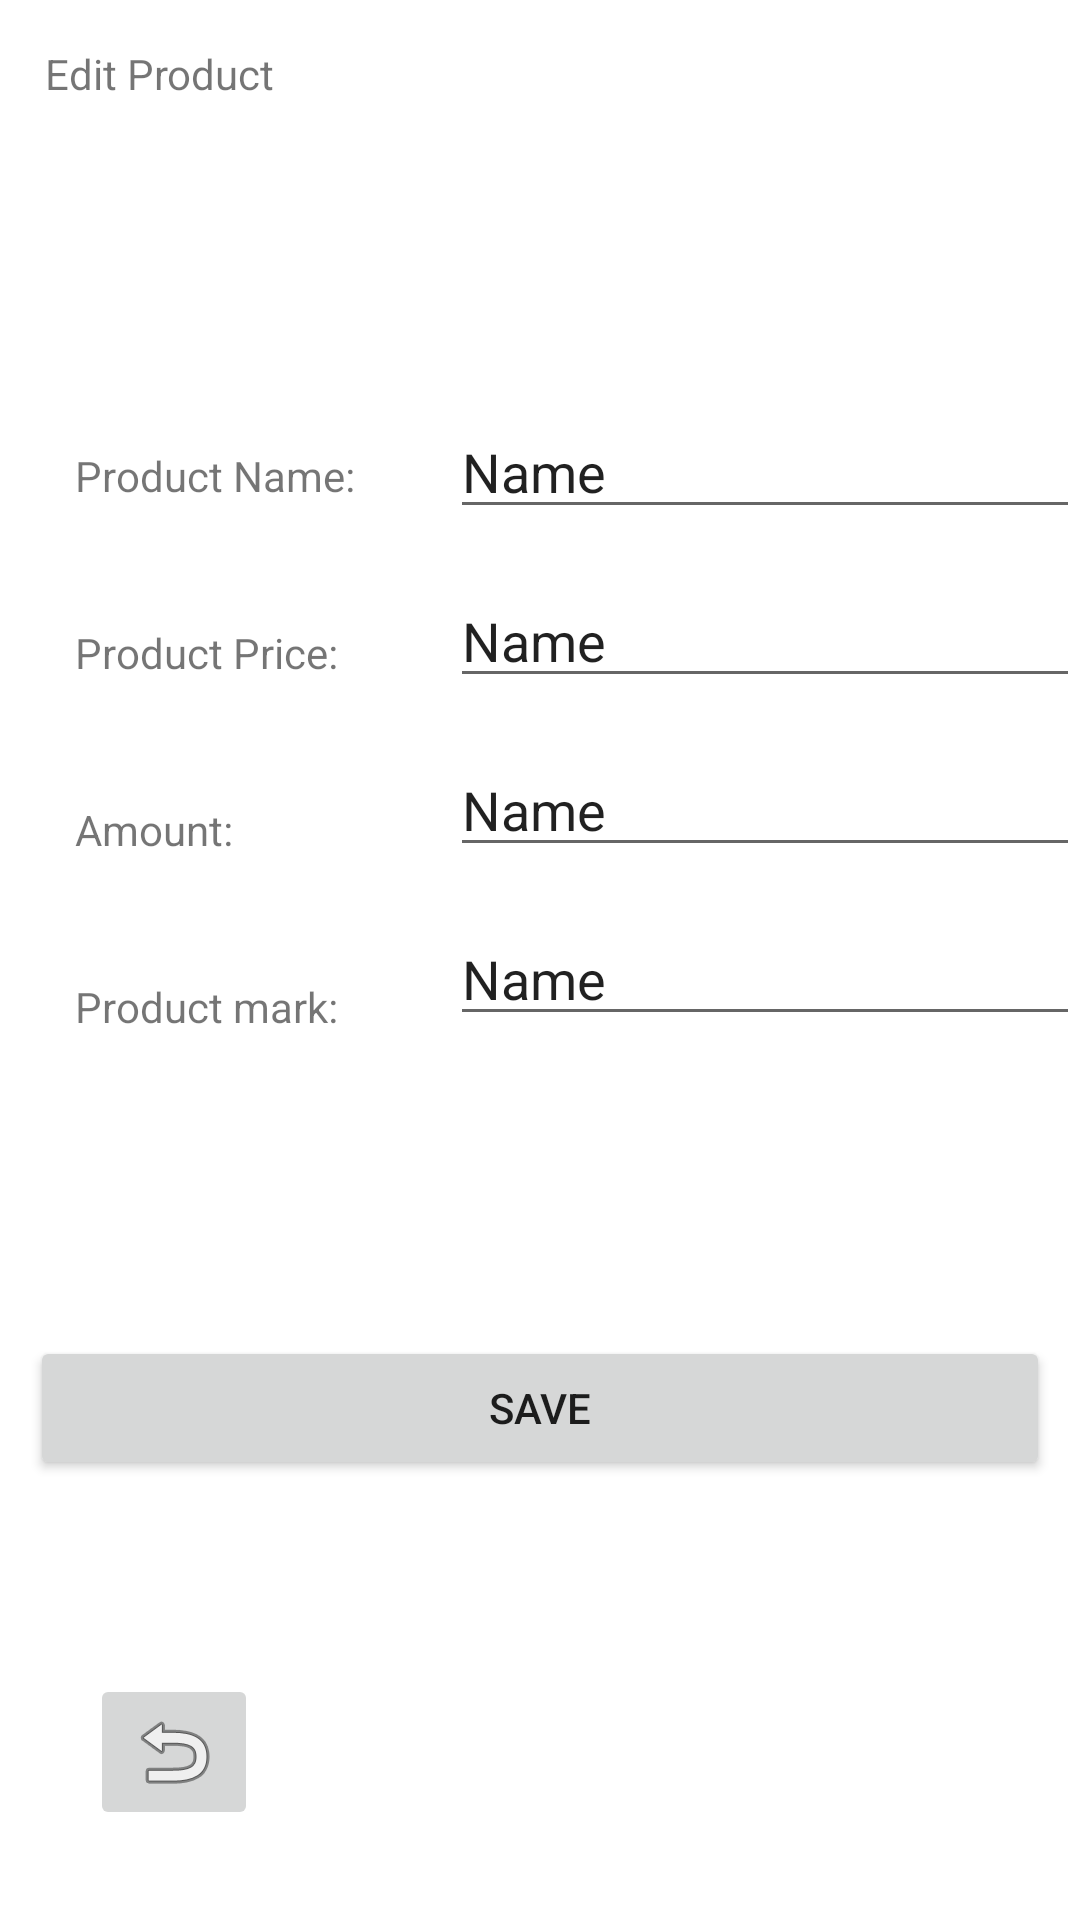

Point at icon controls on the screen. Image size 1080w x 1920h, points as [x,y].
revert: [174,1752]
